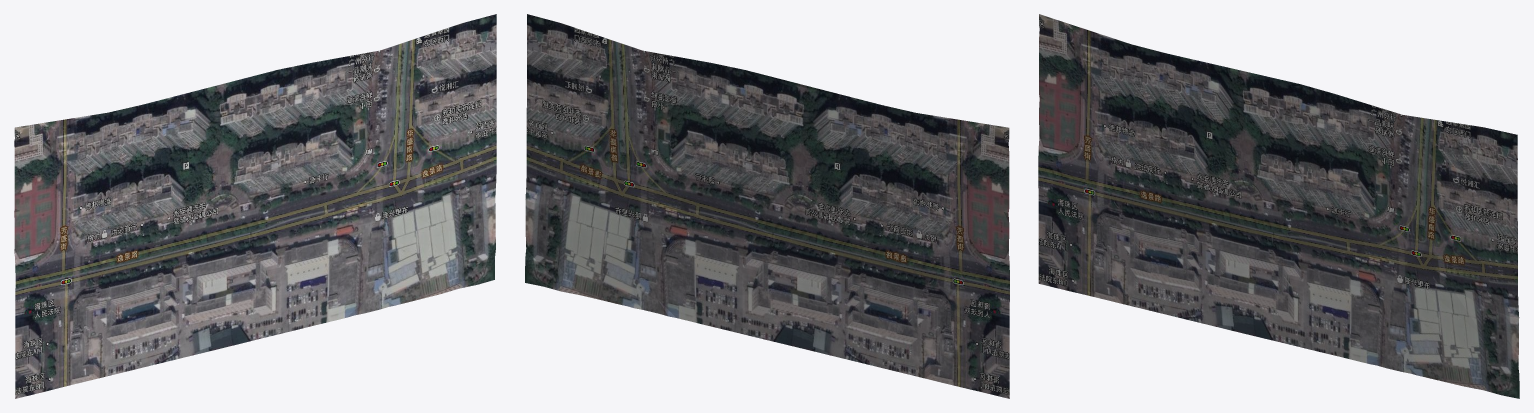
3 renders of one model, left to right at view 1: azimuth 30°, elevation 25°; view 2: azimuth 150°, elevation 25°; view 3: azimuth 330°, elevation 25°, orthographic.
Parts seen in each view (by area): view 1: 0_2_0_3_2_3; view 2: 0_2_0_3_2_3; view 3: 0_2_0_3_2_3.
Part boxes in pixels (bbox=[...]): 0_2_0_3_2_3: bbox=[14, 14, 496, 398]; 0_2_0_3_2_3: bbox=[525, 14, 1009, 398]; 0_2_0_3_2_3: bbox=[1038, 14, 1519, 398].
Bounding box in the file's own units: 486 × 261 × 4.5.
1 material, 1 textured.
